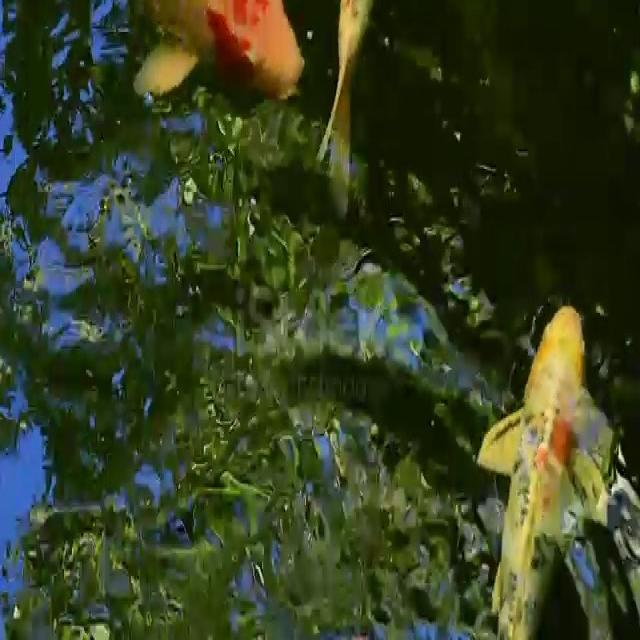fish: (476, 277, 621, 640), (132, 0, 311, 109), (324, 0, 383, 180)
